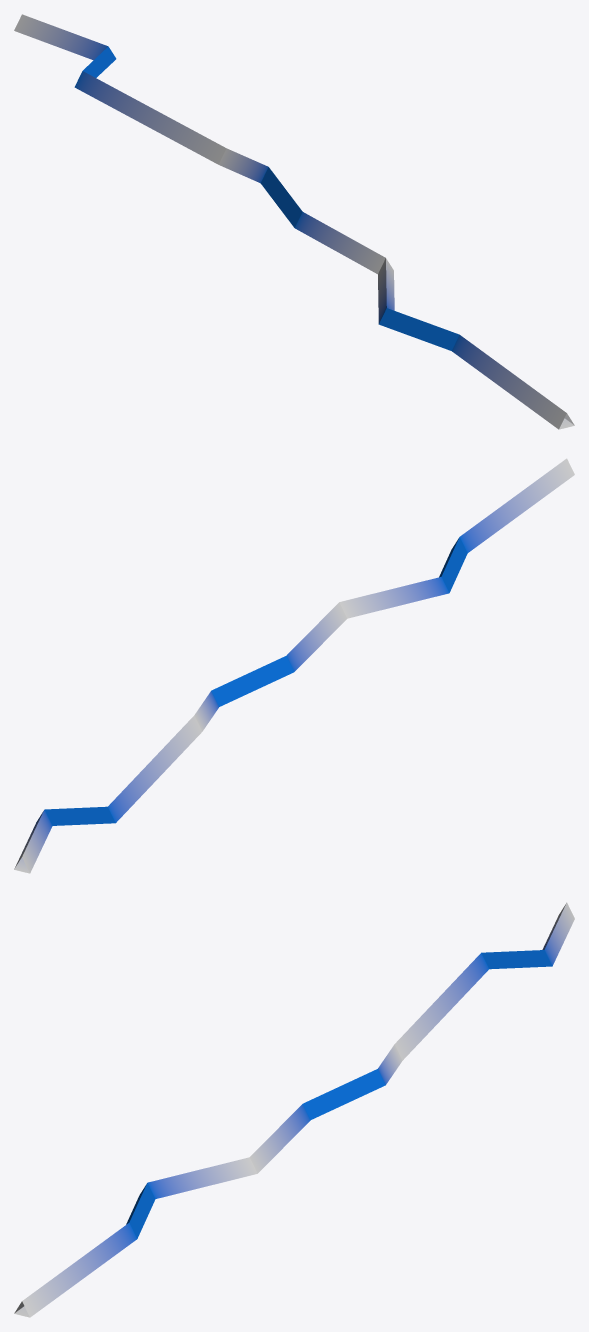
The model's file is Gate_fx.fbx.
The picture shows the model from 3 angles, top to bottom: view 1: azimuth 30°, elevation 25°; view 2: azimuth 150°, elevation 25°; view 3: azimuth 330°, elevation 25°; orthographic projection.
Visible parts, largest first — view 1: Cylinder; view 2: Cylinder; view 3: Cylinder.
Boxes of the visible parts, box(x1,y1,x2,y2) form: Cylinder: box(14, 14, 574, 429); Cylinder: box(14, 458, 574, 873); Cylinder: box(14, 902, 574, 1317).
Size of the model in its own units: 0.7882 by 0.1458 by 9.86.
